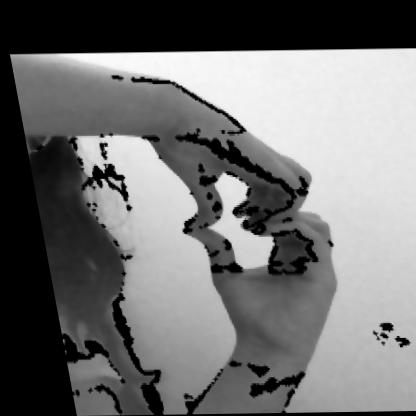heart: (140, 74, 351, 362)
